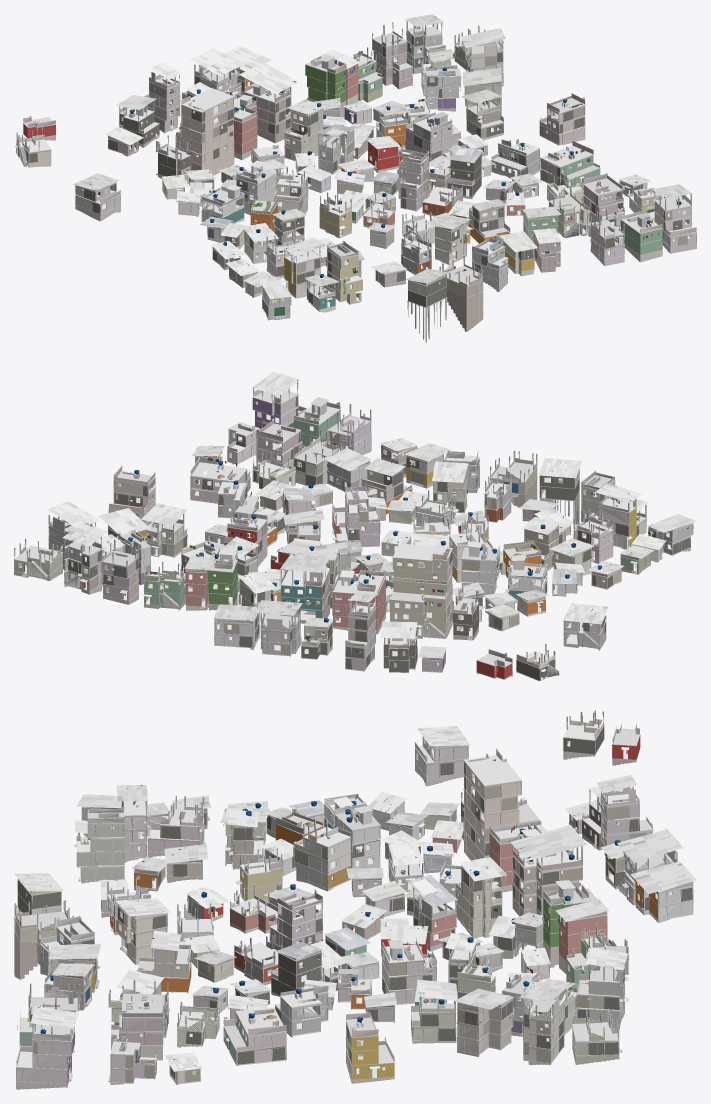
3 renders of one model, top to bottom at view 1: azimuth 30°, elevation 25°; view 2: azimuth 150°, elevation 25°; view 3: azimuth 270°, elevation 25°, orthographic. The views are drawn at different scales.
Parts seen in each view (by area): view 1: T_28_24; view 2: T_28_24; view 3: T_28_24.
Boxes of the visible parts, x1,y1,x2,y2 form: T_28_24: [14, 14, 696, 342]; T_28_24: [14, 371, 696, 681]; T_28_24: [14, 710, 696, 1089].
Size of the model in its own units: 134 by 33.49 by 125.
